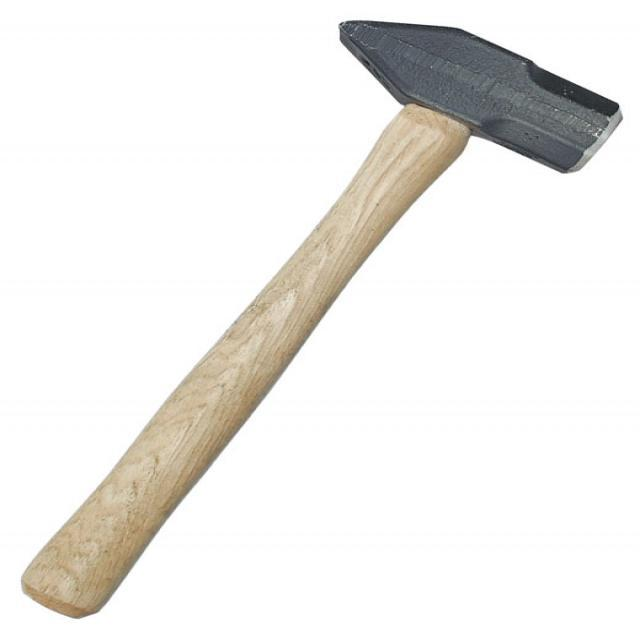hammer: (15, 13, 629, 624)
